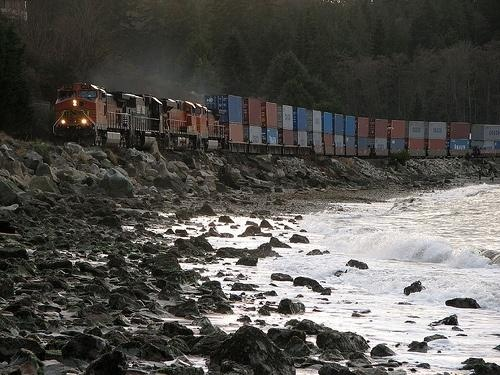train: (54, 75, 500, 158)
